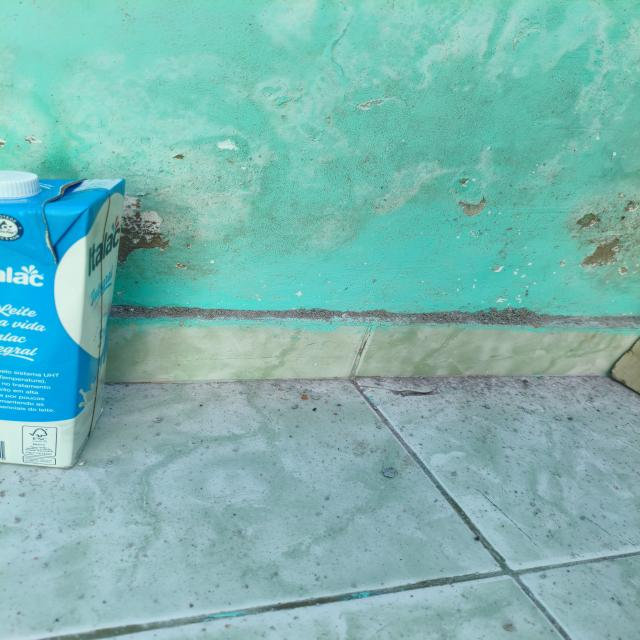Caixa de Leite: (1, 179, 129, 471)
